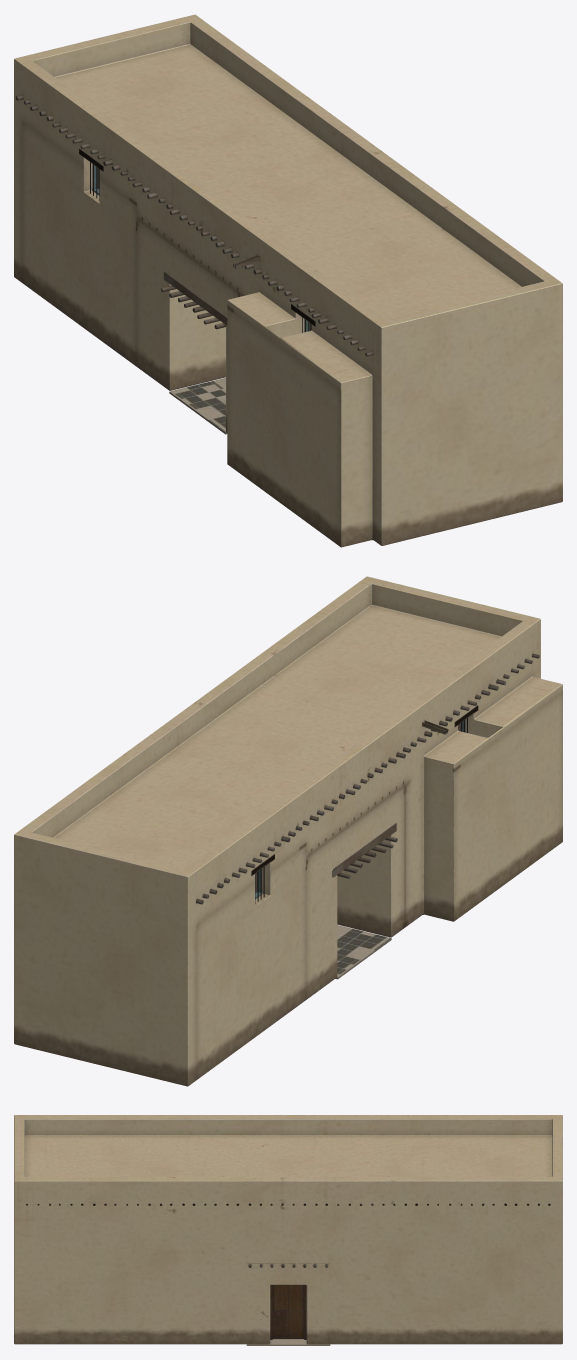
Rendered from souq_endE_m.glb.
3 renders of one model, top to bottom at view 1: azimuth 30°, elevation 25°; view 2: azimuth 150°, elevation 25°; view 3: azimuth 270°, elevation 25°, orthographic. The views are drawn at different scales.
Visible parts, largest first — view 1: GX_endE_LOD0; view 2: GX_endE_LOD0; view 3: GX_endE_LOD0.
Part boxes in pixels (x1,y1,x2,y2): GX_endE_LOD0: [14, 14, 562, 547]; GX_endE_LOD0: [14, 576, 562, 1086]; GX_endE_LOD0: [14, 1115, 562, 1345].
Size of what is drawn, in the model's own units: 7.15 by 6.96 by 21.
3 materials, 1 textured.
